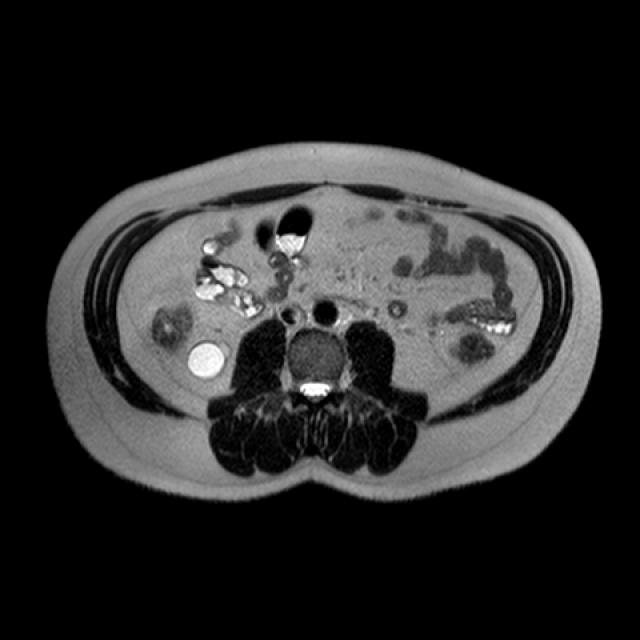sag: (186, 338, 233, 381)
